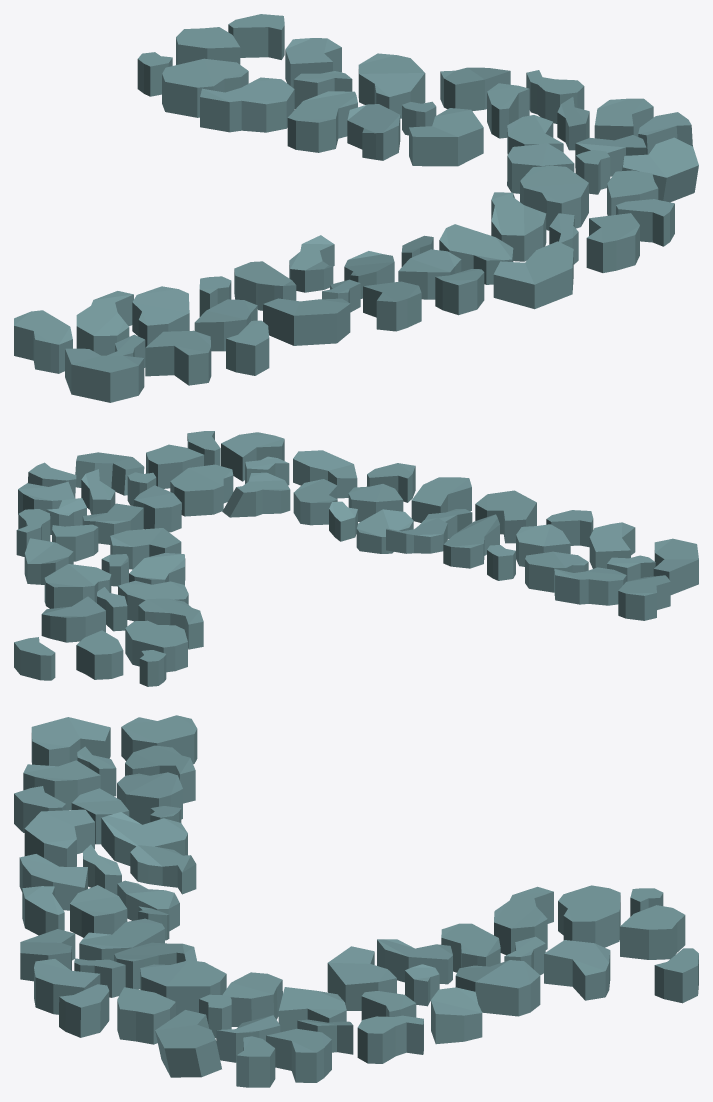
Rendered from fbTrack3.fbx.
3 views of the same model, one above another, from view 1: azimuth 30°, elevation 25°; view 2: azimuth 150°, elevation 25°; view 3: azimuth 270°, elevation 25° (orthographic). The views are drawn at different scales.
Visible parts, largest first — view 1: polySurface71; view 2: polySurface71; view 3: polySurface71.
Part boxes in pixels (x1=…): polySurface71: x1=14, y1=14, x2=698, y2=402; polySurface71: x1=14, y1=431, x2=698, y2=686; polySurface71: x1=14, y1=715, x2=698, y2=1087.
Size of the model in its own units: 3.86 by 0.2535 by 3.2.
